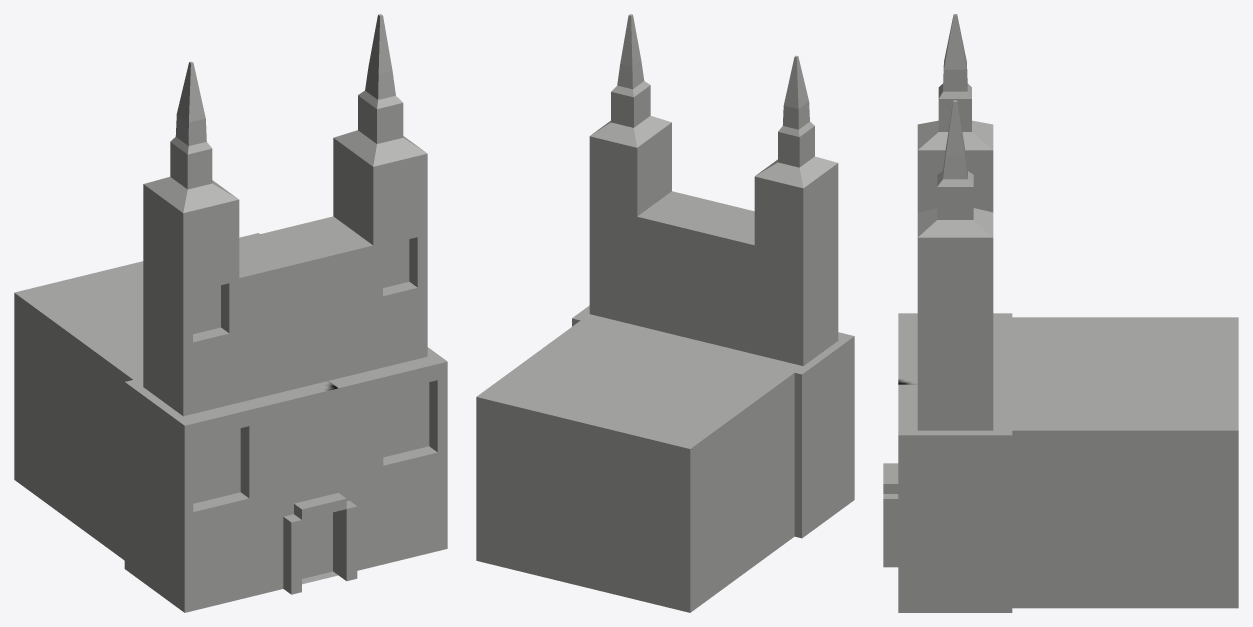
File: tower3.fbx
The picture shows the model from 3 angles, left to right: view 1: azimuth 30°, elevation 25°; view 2: azimuth 150°, elevation 25°; view 3: azimuth 270°, elevation 25°; orthographic projection. The views are drawn at different scales.
Visible parts, largest first — view 1: Cube; view 2: Cube; view 3: Cube.
Part boxes in pixels (left/top/right/bottom): Cube: left=14, top=14, right=447, bottom=612; Cube: left=476, top=14, right=854, bottom=612; Cube: left=883, top=14, right=1238, bottom=612.
Size of the model in its own units: 4.52 by 8.56 by 5.58.
